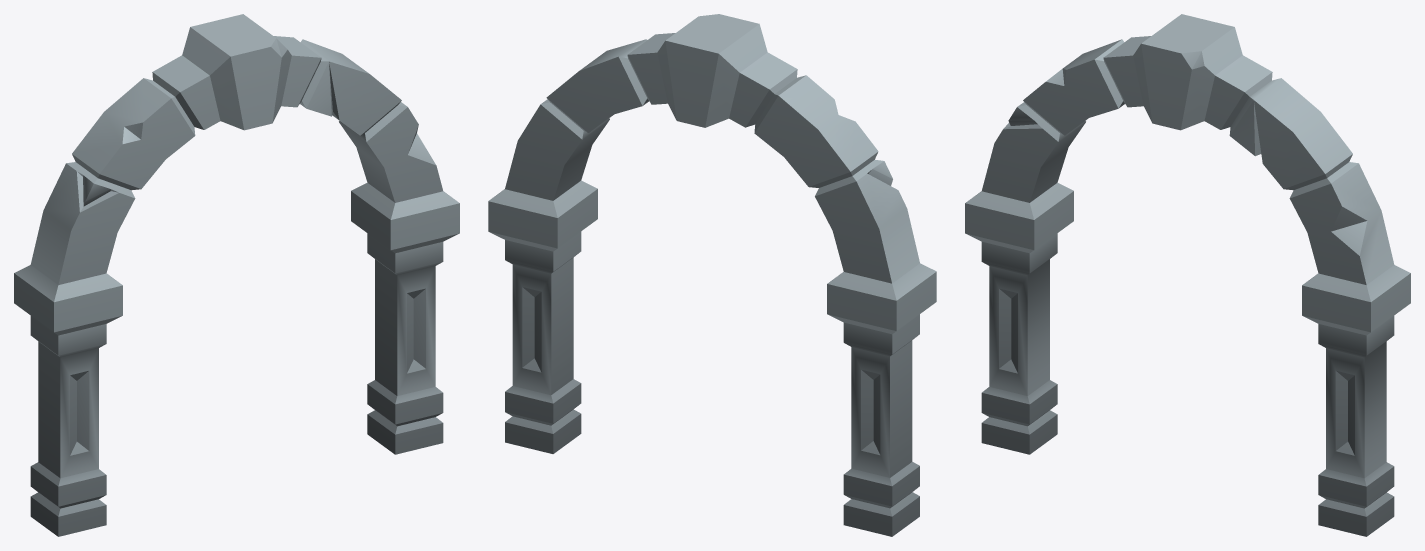
The model's file is arch.glb.
3 renders of one model, left to right at view 1: azimuth 30°, elevation 25°; view 2: azimuth 150°, elevation 25°; view 3: azimuth 330°, elevation 25°, orthographic.
Visible parts, largest first — view 1: arch; view 2: arch; view 3: arch.
Part boxes in pixels (box(x1,y1,x2,y2)): arch: box(14, 14, 459, 536); arch: box(488, 14, 936, 536); arch: box(965, 14, 1410, 536).
Size of the model in its own units: 4.22 by 4.41 by 0.7699.
1 material, 1 textured.
